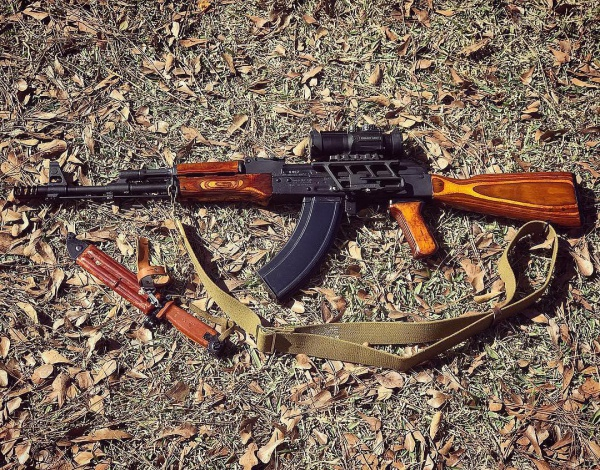ak47: (17, 130, 582, 293)
